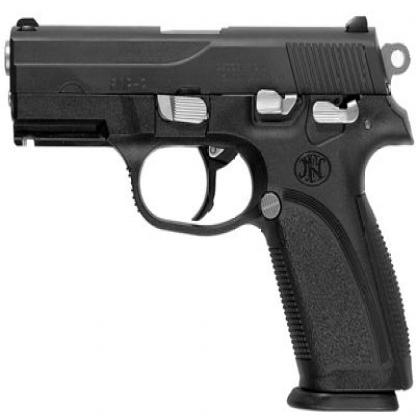Guns: (1, 3, 415, 414)
